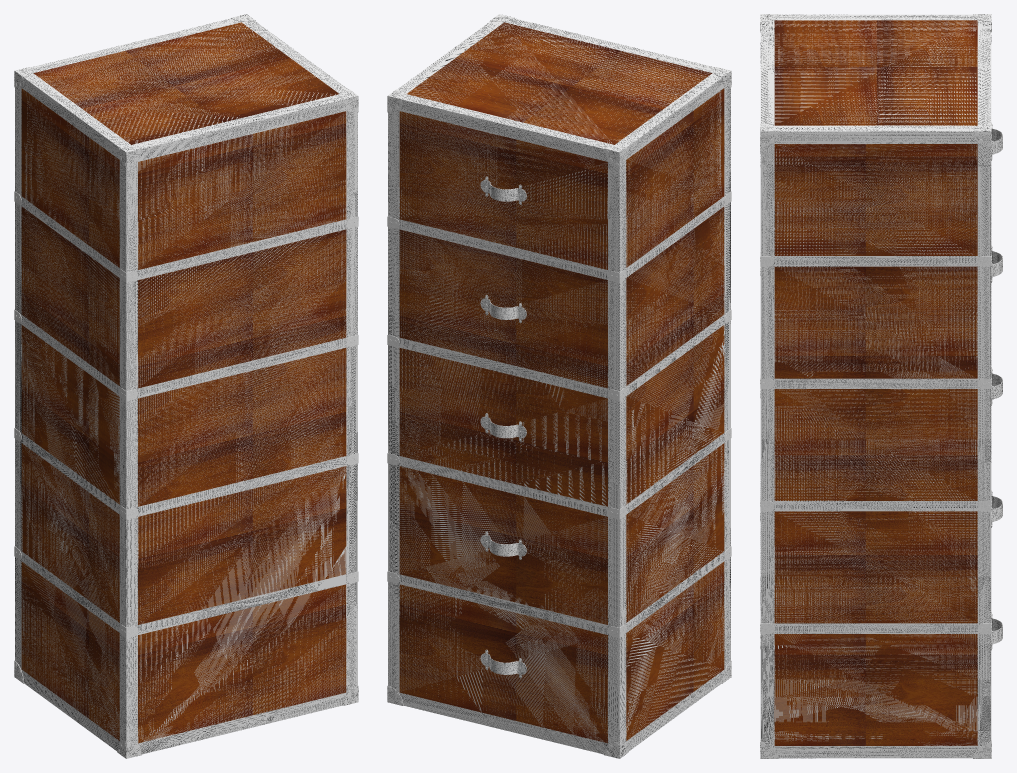
3 renders of one model, left to right at view 1: azimuth 30°, elevation 25°; view 2: azimuth 150°, elevation 25°; view 3: azimuth 270°, elevation 25°, orthographic. The views are drawn at different scales.
Parts seen in each view (by area): view 1: mesh26_mesh26-geometry, mesh6_mesh6-geometry, mesh7_mesh7-geometry, mesh12_mesh12-geometry, mesh4_mesh4-geometry, mesh13_mesh13-geometry, mesh10_mesh10-geometry, mesh19_mesh19-geometry, mesh21_mesh21-geometry, mesh3_mesh3-geometry, mesh8_mesh8-geometry, mesh14_mesh14-geometry (+4 smaller); view 2: mesh26_mesh26-geometry, mesh2_mesh2-geometry, mesh1_mesh1-geometry, mesh18_mesh18-geometry, mesh22_mesh22-geometry, mesh5_mesh5-geometry, mesh10_mesh10-geometry, mesh19_mesh19-geometry, mesh21_mesh21-geometry, mesh3_mesh3-geometry, mesh8_mesh8-geometry, mesh14_mesh14-geometry (+5 smaller); view 3: mesh26_mesh26-geometry, mesh16_mesh16-geometry, mesh17_mesh17-geometry, mesh9_mesh9-geometry, mesh11_mesh11-geometry, mesh15_mesh15-geometry, mesh10_mesh10-geometry, mesh27_mesh27-geometry, mesh55_mesh55-geometry, mesh65_mesh65-geometry, mesh41_mesh41-geometry, mesh36_mesh36-geometry.
Part boxes in pixels (x1,y1,x2,y2): mesh26_mesh26-geometry: (15, 18, 357, 754); mesh6_mesh6-geometry: (138, 229, 346, 388); mesh7_mesh7-geometry: (138, 584, 346, 743); mesh12_mesh12-geometry: (138, 348, 346, 506); mesh4_mesh4-geometry: (138, 466, 346, 624); mesh13_mesh13-geometry: (138, 111, 346, 269); mesh10_mesh10-geometry: (33, 22, 339, 144); mesh19_mesh19-geometry: (21, 443, 119, 622); mesh21_mesh21-geometry: (21, 325, 119, 504); mesh3_mesh3-geometry: (21, 88, 119, 267); mesh8_mesh8-geometry: (21, 561, 119, 740); mesh14_mesh14-geometry: (21, 207, 119, 385); mesh26_mesh26-geometry: (388, 18, 730, 754); mesh2_mesh2-geometry: (399, 584, 607, 743); mesh1_mesh1-geometry: (399, 229, 607, 388); mesh18_mesh18-geometry: (399, 466, 607, 624); mesh22_mesh22-geometry: (399, 111, 607, 269); mesh5_mesh5-geometry: (399, 348, 607, 506); mesh10_mesh10-geometry: (407, 22, 712, 144); mesh19_mesh19-geometry: (626, 443, 724, 622); mesh21_mesh21-geometry: (626, 325, 724, 504); mesh3_mesh3-geometry: (626, 88, 724, 267); mesh8_mesh8-geometry: (626, 561, 724, 740); mesh14_mesh14-geometry: (626, 207, 724, 385); mesh26_mesh26-geometry: (760, 14, 991, 758); mesh16_mesh16-geometry: (774, 511, 977, 623); mesh17_mesh17-geometry: (774, 266, 977, 378); mesh9_mesh9-geometry: (774, 144, 977, 255); mesh11_mesh11-geometry: (774, 634, 977, 745); mesh15_mesh15-geometry: (774, 389, 977, 500); mesh10_mesh10-geometry: (774, 20, 977, 125); mesh27_mesh27-geometry: (991, 128, 1002, 646); mesh55_mesh55-geometry: (760, 14, 991, 758); mesh65_mesh65-geometry: (760, 14, 991, 758); mesh41_mesh41-geometry: (760, 148, 991, 633); mesh36_mesh36-geometry: (760, 252, 774, 633).
Bounding box in the file's own units: 0.3541 × 0.8826 × 0.3092.
